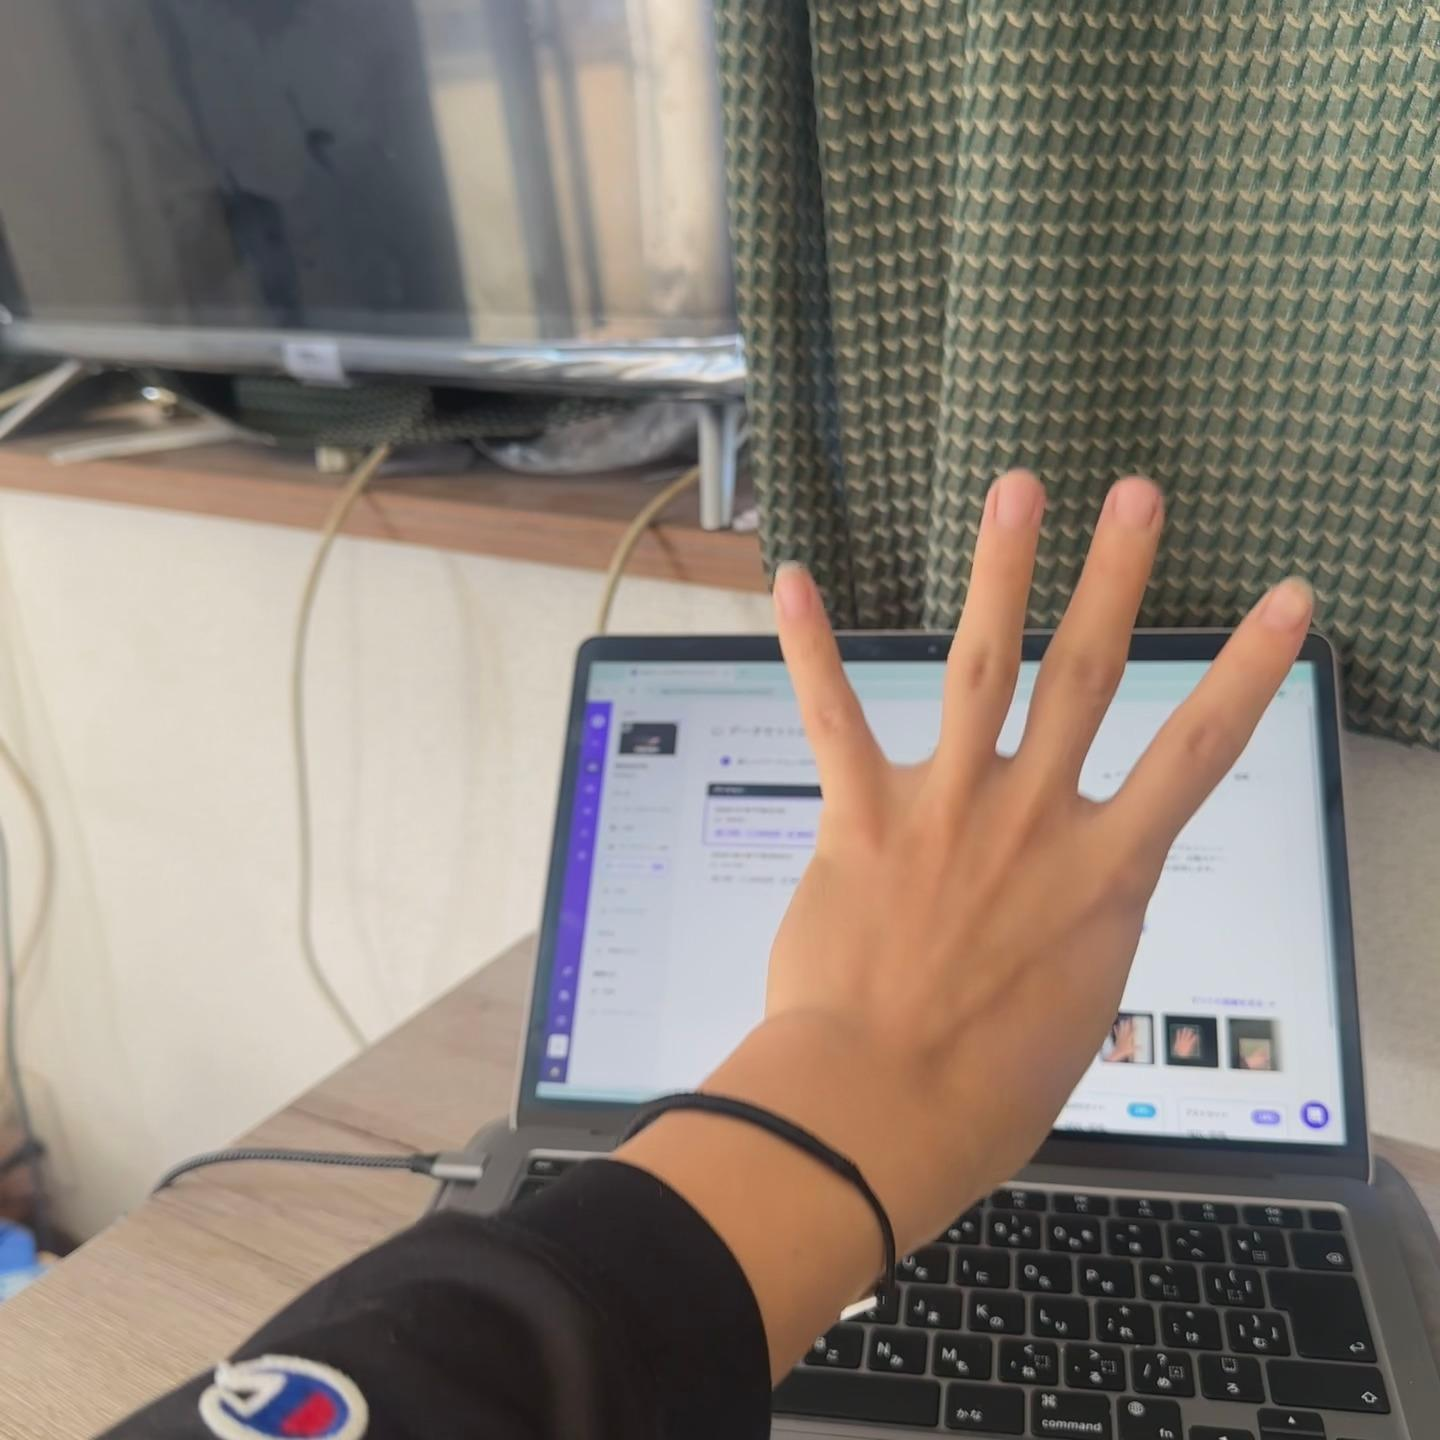without_gloves: (725, 384, 1440, 1325)
